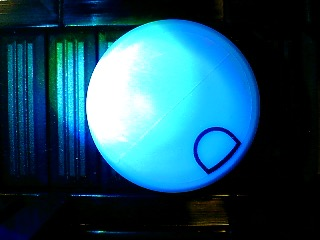MIPO1: (85, 18, 260, 193)
